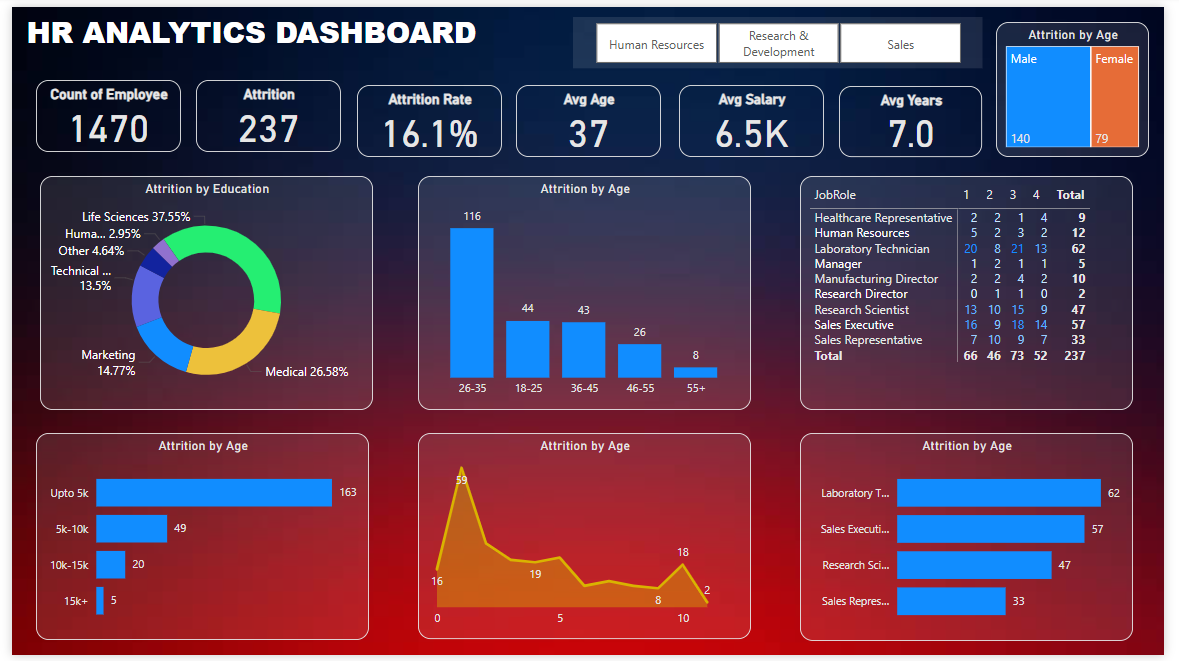

What the dashboard file says about the page in this screenshot:
{"tool":"powerbi","page":{"name":"Page 1","canvas":[1280,720],"ordinal":0},"visuals":[{"type":"card","title":"Count of Employee","fields":{"Values":["CountNonNull(HR_Analytics.EmpID)"]},"box":[26.8,81.6,160.6,80.3],"z":0},{"type":"card","title":"Attrition","fields":{"Values":["Sum(HR_Analytics.AttritionCount)"]},"box":[204,81.6,160.6,80.3],"z":1000},{"type":"card","title":"Attrition Rate","fields":{"Values":["HR_Analytics.AttritionRate"]},"box":[383.7,86.7,160.6,80.3],"z":2000},{"type":"card","title":"Avg Age","fields":{"Values":["Avg(HR_Analytics.Age)"]},"box":[559.7,86.7,160.6,80.3],"z":3000},{"type":"card","title":"Avg Salary","fields":{"Values":["Avg(HR_Analytics.MonthlyIncome)"]},"box":[740.7,86.7,160.6,80.3],"z":4000},{"type":"card","title":"Avg Years","fields":{"Values":["Avg(HR_Analytics.YearsAtCompany)"]},"box":[919.2,88,159.4,79],"z":5000},{"type":"donutChart","title":"Attrition by Education","fields":{"Category":["HR_Analytics.EducationField"],"Y":["Sum(HR_Analytics.AttritionCount)"]},"box":[30.6,187.4,369.7,260.1],"z":6000},{"type":"columnChart","title":"Attrition by Age","fields":{"Category":["HR_Analytics.AgeGroup"],"Y":["Sum(HR_Analytics.AttritionCount)"]},"box":[451.3,187.4,370,260.1],"z":7000},{"type":"pivotTable","fields":{"Rows":["HR_Analytics.JobRole"],"Columns":["HR_Analytics.JobSatisfaction"],"Values":["Sum(HR_Analytics.AttritionCount)"]},"box":[875.9,187.4,369.7,260.1],"z":8000},{"type":"barChart","title":"Attrition by Age","fields":{"Category":["HR_Analytics.SalarySlab"],"Y":["Sum(HR_Analytics.AttritionCount)"]},"box":[26.8,473,370,230],"z":9000},{"type":"barChart","title":"Attrition by Age","fields":{"Category":["HR_Analytics.JobRole"],"Y":["Sum(HR_Analytics.AttritionCount)"]},"box":[875.9,473,369.7,230.8],"z":10000},{"type":"areaChart","title":"Attrition by Age","fields":{"Category":["HR_Analytics.YearsAtCompany"],"Y":["Sum(HR_Analytics.AttritionCount)"]},"box":[451.3,473,369.7,229.5],"z":11000},{"type":"treemap","title":"Attrition by Age","fields":{"Group":["HR_Analytics.Gender"],"Values":["Sum(HR_Analytics.AttritionCount)"]},"box":[1093.7,17.1,169.7,150.4],"z":12000},{"type":"slicer","fields":{"Values":["HR_Analytics.Department"]},"box":[623.4,11.5,455.1,57.4],"z":13000},{"type":"textbox","box":[11.5,0,524,56.1],"z":14000}]}

Visuals, with their boxes in screenshot pixels (x1, y1, x2, y2), scaled from the page's 1280x720 canvas onto the 1179x661 screenshot:
"Count of Employee" card: x1=25, y1=75, x2=173, y2=149
"Attrition" card: x1=188, y1=75, x2=336, y2=149
"Attrition Rate" card: x1=353, y1=80, x2=501, y2=153
"Avg Age" card: x1=516, y1=80, x2=663, y2=153
"Avg Salary" card: x1=682, y1=80, x2=830, y2=153
"Avg Years" card: x1=847, y1=81, x2=993, y2=153
"Attrition by Education" donutChart: x1=28, y1=172, x2=369, y2=411
"Attrition by Age" columnChart: x1=416, y1=172, x2=756, y2=411
pivotTable - HR_Analytics.JobRole x HR_Analytics.JobSatisfaction: x1=807, y1=172, x2=1147, y2=411
"Attrition by Age" barChart: x1=25, y1=434, x2=365, y2=645
"Attrition by Age" barChart: x1=807, y1=434, x2=1147, y2=646
"Attrition by Age" areaChart: x1=416, y1=434, x2=756, y2=645
"Attrition by Age" treemap: x1=1007, y1=16, x2=1164, y2=154
slicer - HR_Analytics.Department: x1=574, y1=11, x2=993, y2=63
textbox: x1=11, y1=0, x2=493, y2=52
